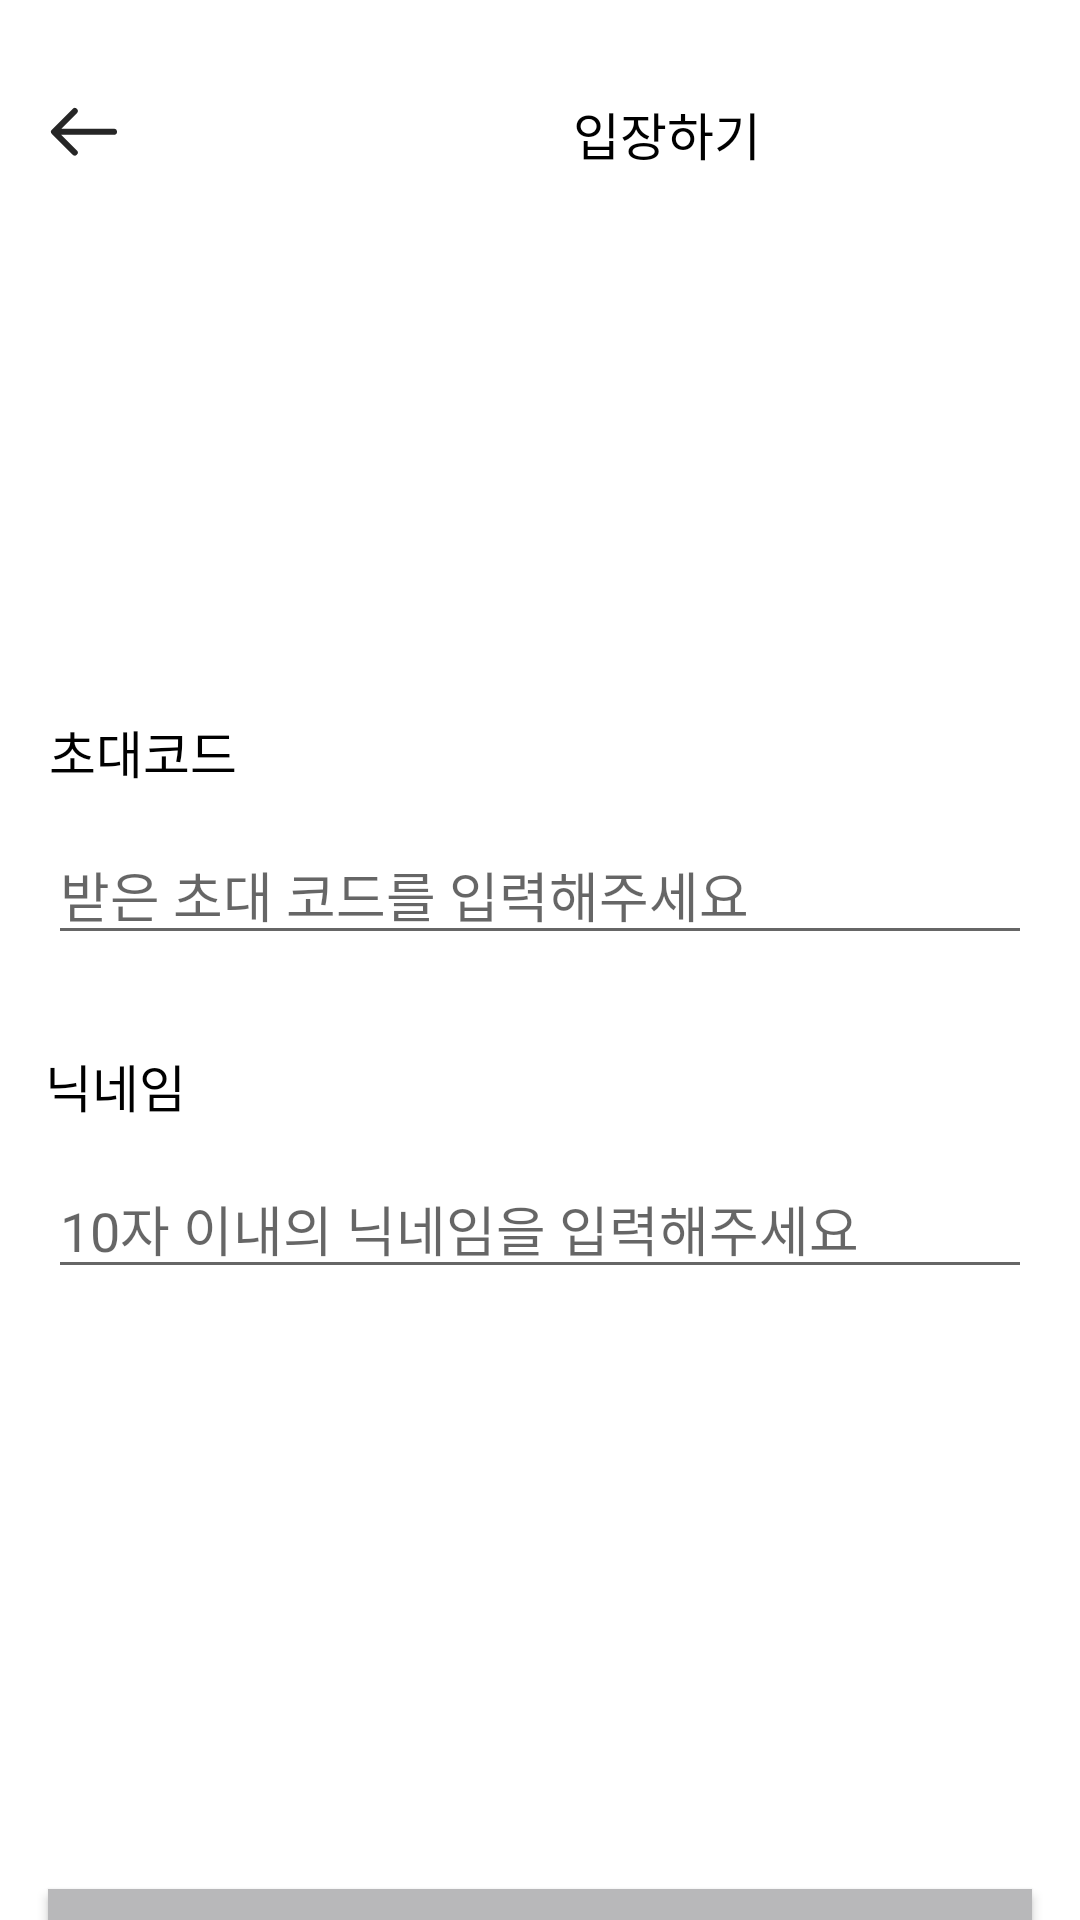

Where to tap for icons on this 1080px×1920px app screen, as (x,y):
back: (83,131)
